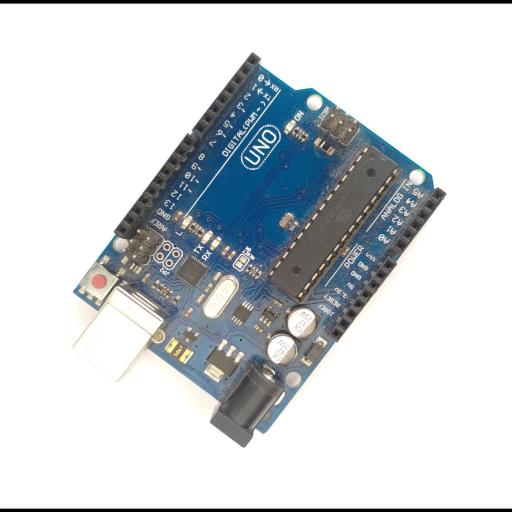Arduino Uno R3: (70, 51, 446, 448)
